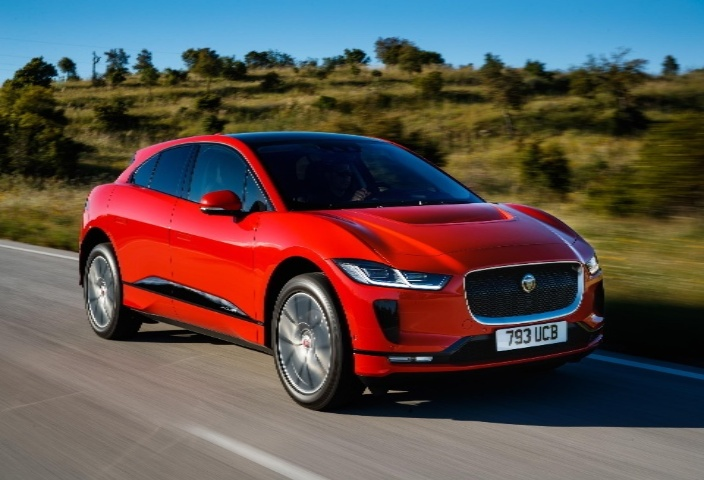car: (72, 121, 619, 409)
